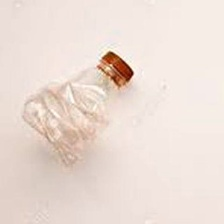bottle: (20, 48, 135, 167)
